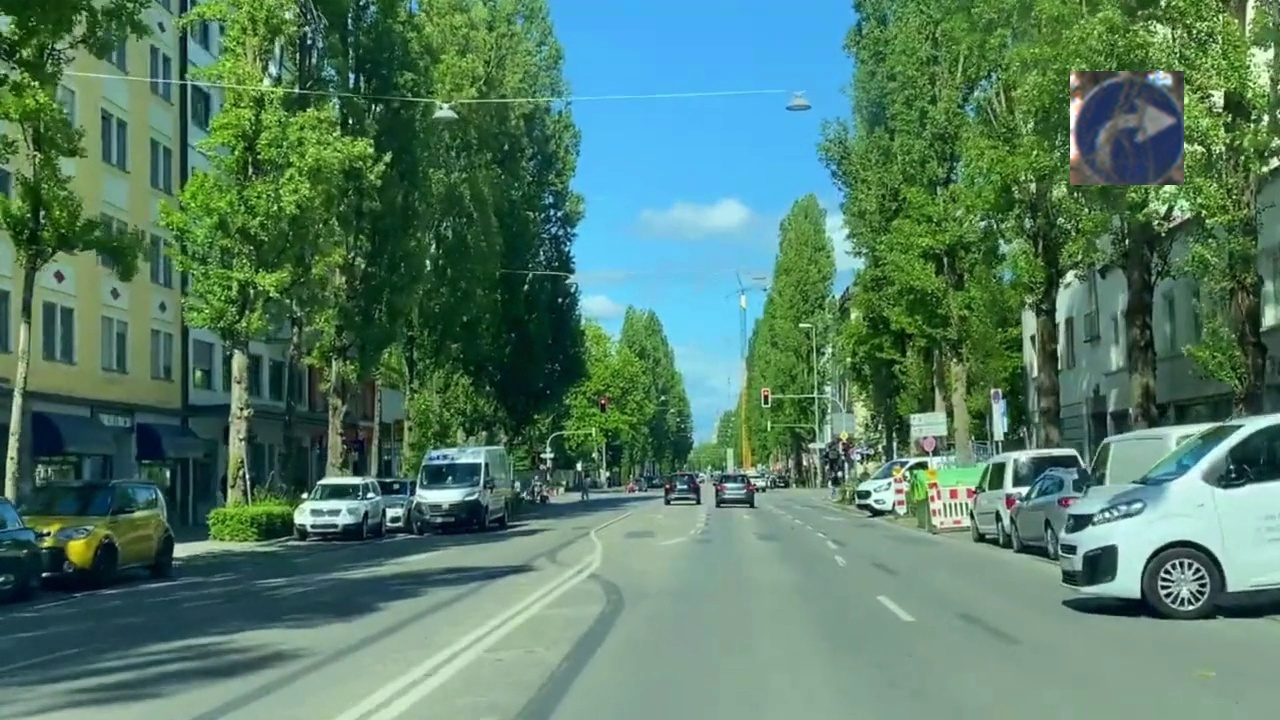Turn right: (1070, 71, 1184, 185)
